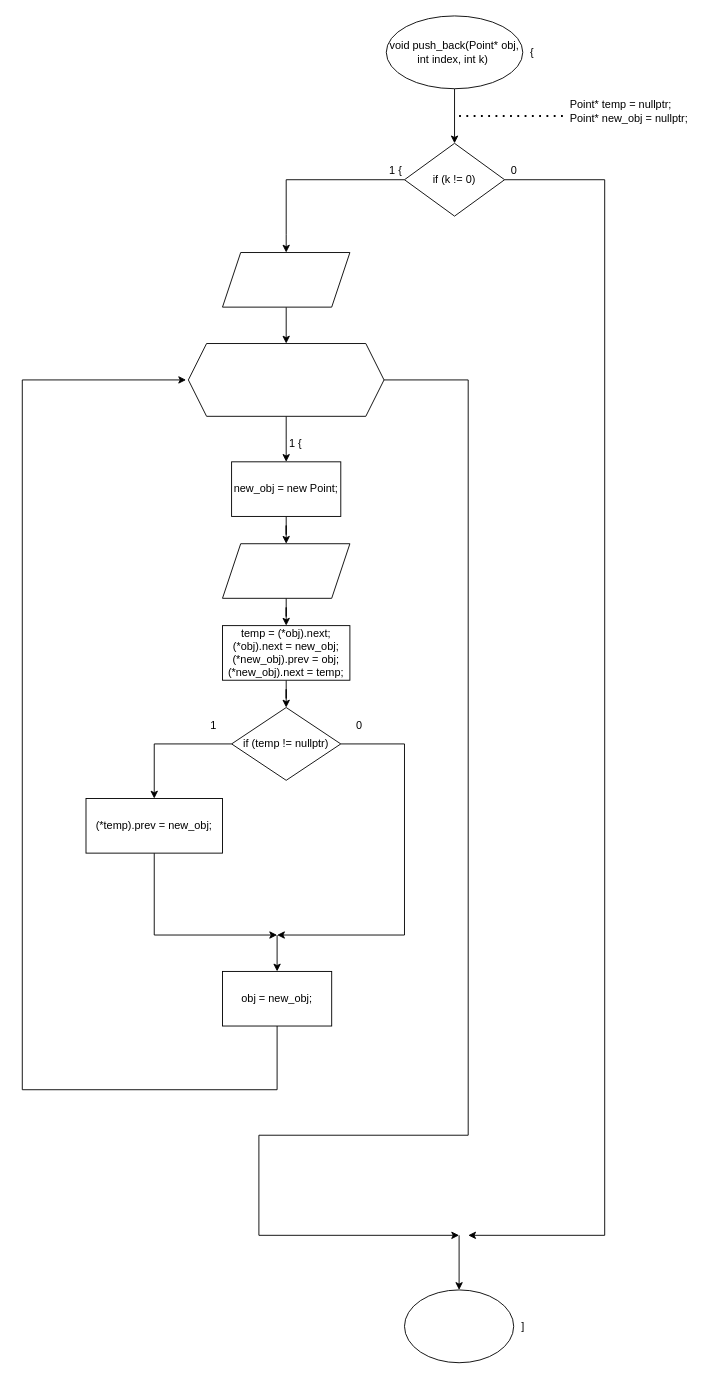
Some shapes in this 721 by 1379 pixel diagram are drawn without their labels. Here are the shapes that lost their labels. From the top down, the centre of each, then its label:
[286,279]: cout << "Введите " << k << " элементов : " << endl;
[285,379]: for (int i = index + 1; i <= index + k; ++i)
[286,570]: cin.getline((*new_obj) .data, MAXLINE);
[459,1326]: return;
